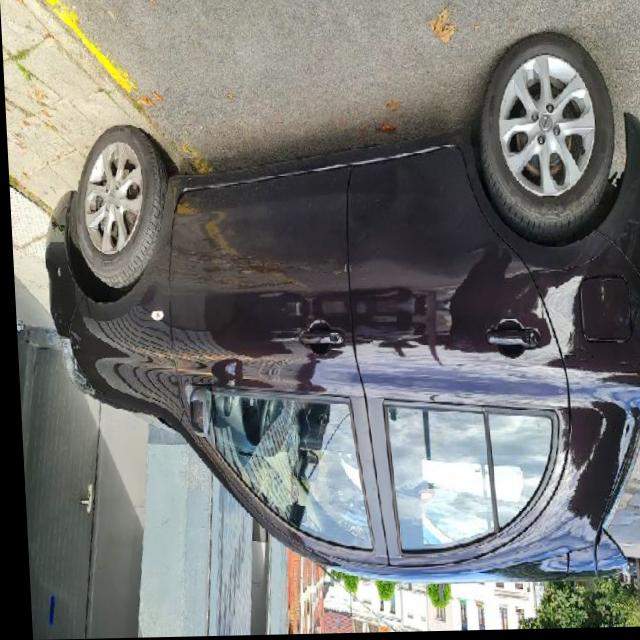porte-avant: (158, 160, 384, 570)
